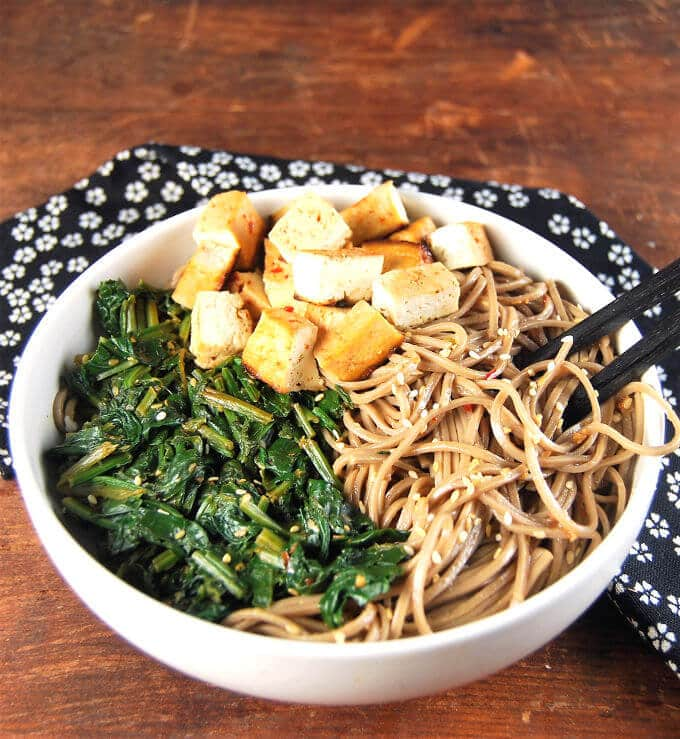Soba: (75, 207, 639, 643)
